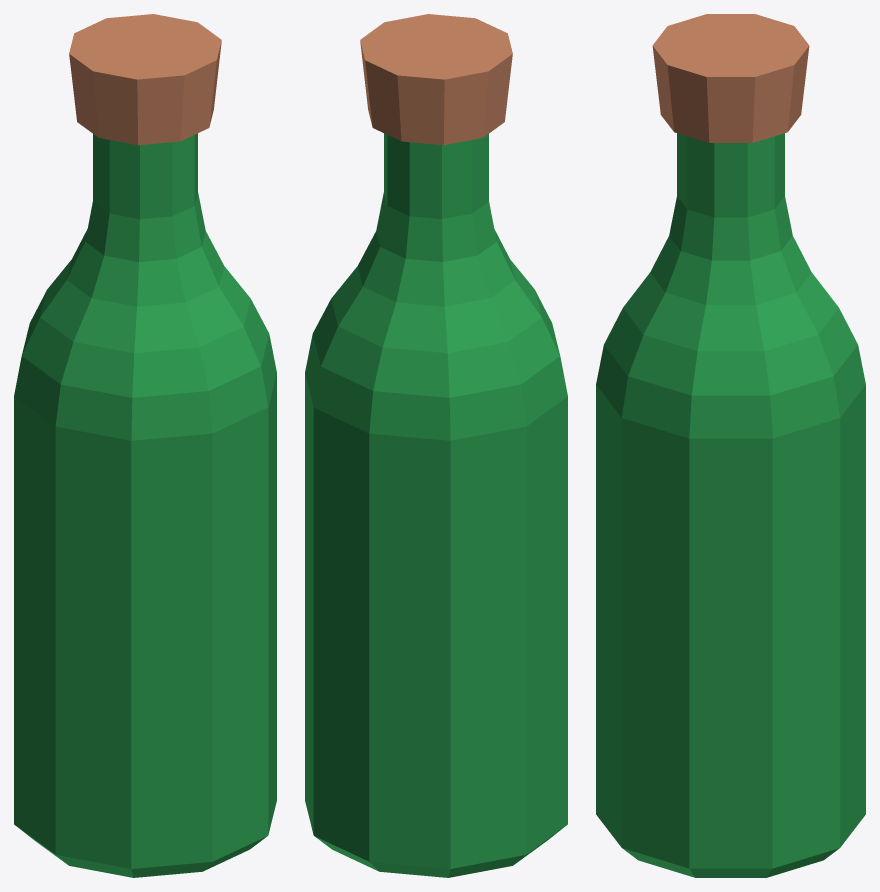
Rendered from Bottle_1.fbx.
The picture shows the model from 3 angles, left to right: view 1: azimuth 30°, elevation 25°; view 2: azimuth 150°, elevation 25°; view 3: azimuth 270°, elevation 25°; orthographic projection.
Visible parts, largest first — view 1: Bottle_Tall; view 2: Bottle_Tall; view 3: Bottle_Tall.
Boxes of the visible parts, x1,y1,x2,y2 form: Bottle_Tall: (14,14,276,877); Bottle_Tall: (305,14,567,877); Bottle_Tall: (596,14,865,877).
Bounding box in the file's own units: 0.1331 × 0.14 × 0.45.
